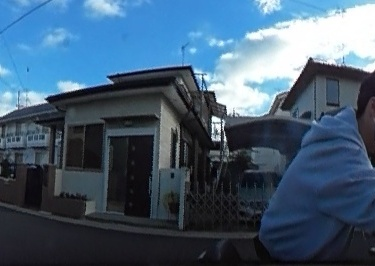person: (261, 65, 375, 256)
